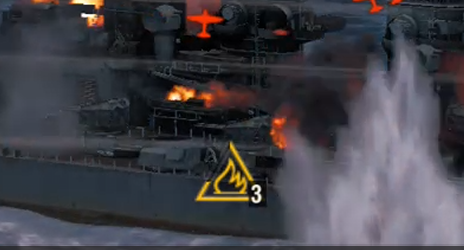3fire: (189, 166, 267, 209)
